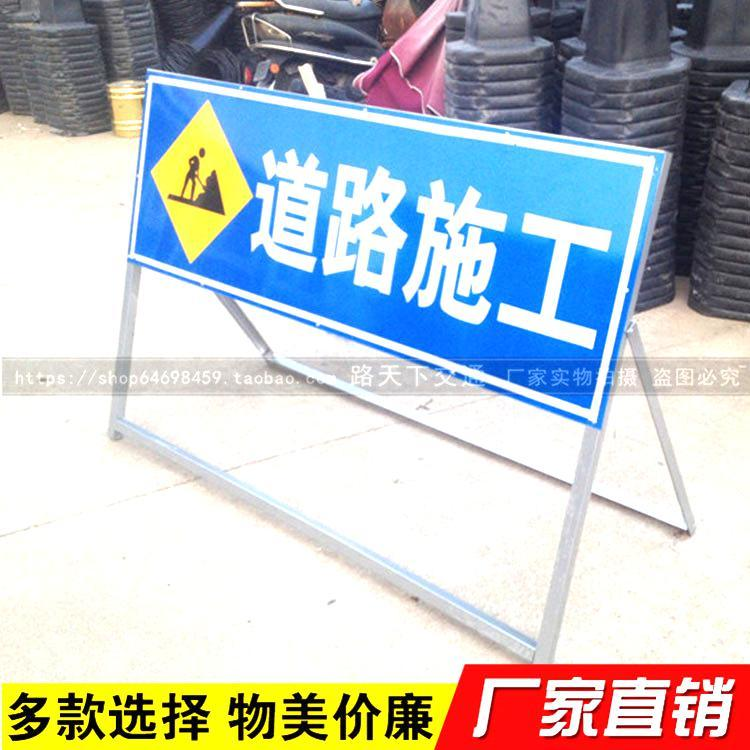sign: (127, 74, 655, 411)
